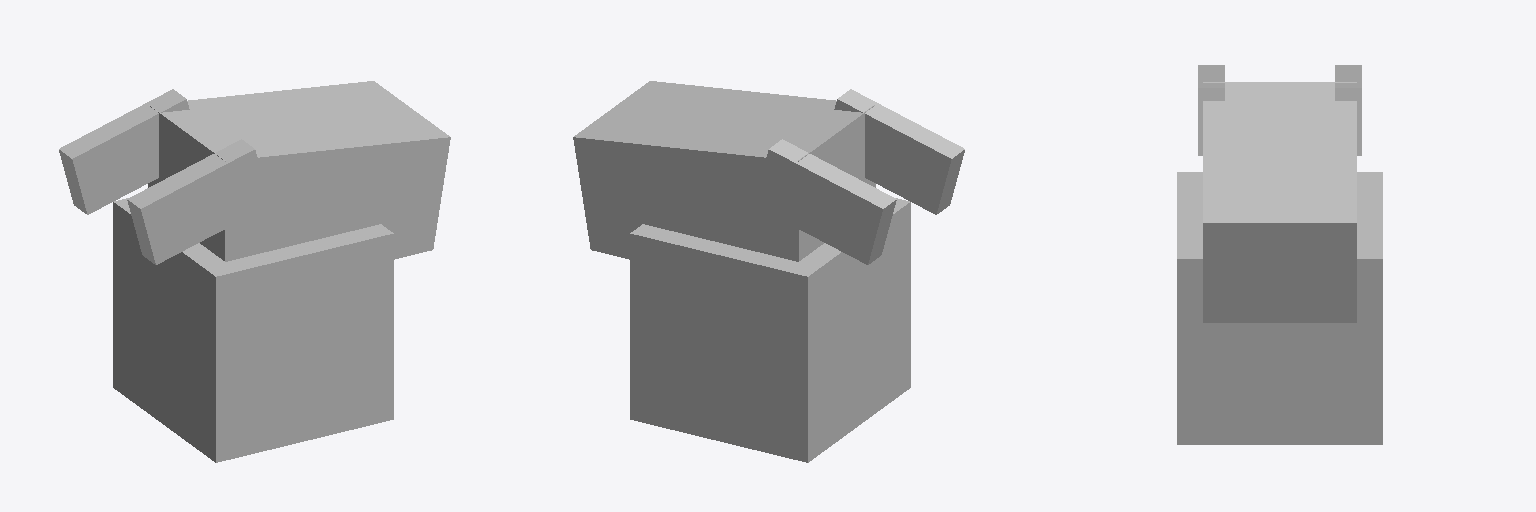
Rendered from nc_rabbits_rabbit_head.obj.
3 renders of one model, left to right at view 1: azimuth 30°, elevation 25°; view 2: azimuth 150°, elevation 25°; view 3: azimuth 270°, elevation 25°, orthographic.
Parts seen in each view (by area): view 1: Cube_Cube.002; view 2: Cube_Cube.002; view 3: Cube_Cube.002.
Boxes of the visible parts, x1=… form: Cube_Cube.002: x1=59, y1=81, x2=450, y2=462; Cube_Cube.002: x1=573, y1=81, x2=964, y2=462; Cube_Cube.002: x1=1177, y1=65, x2=1382, y2=444.
Bounding box in the file's own units: 0.5273 × 0.4742 × 0.3.